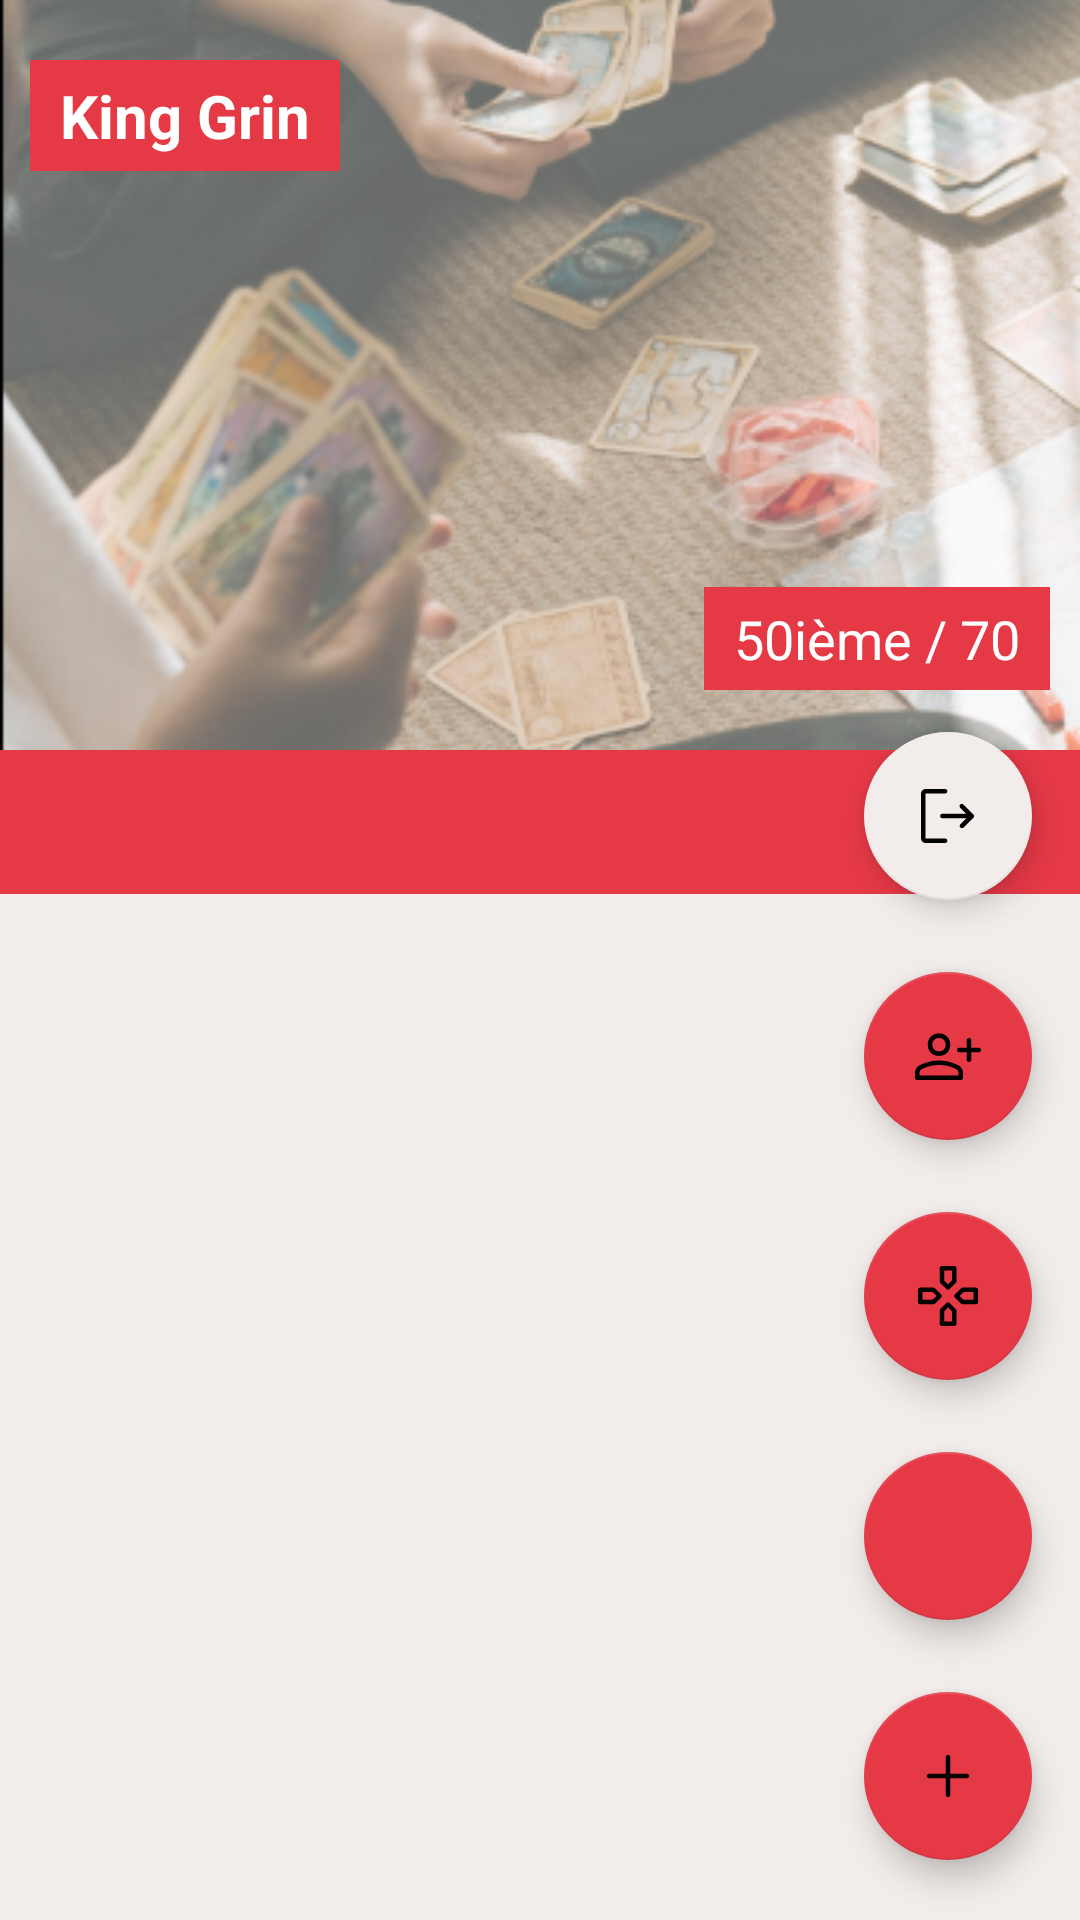

Named icons in this screenshot (1080×1920) and their bounding boxes, (x1, y1, x2, y2):
add plus: (864, 1692, 1032, 1860)
gamepad: (864, 1212, 1032, 1380)
person add: (864, 972, 1032, 1140)
